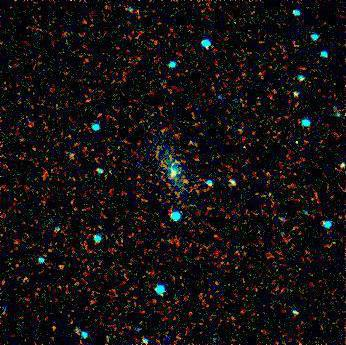star: (155, 158, 185, 188)
